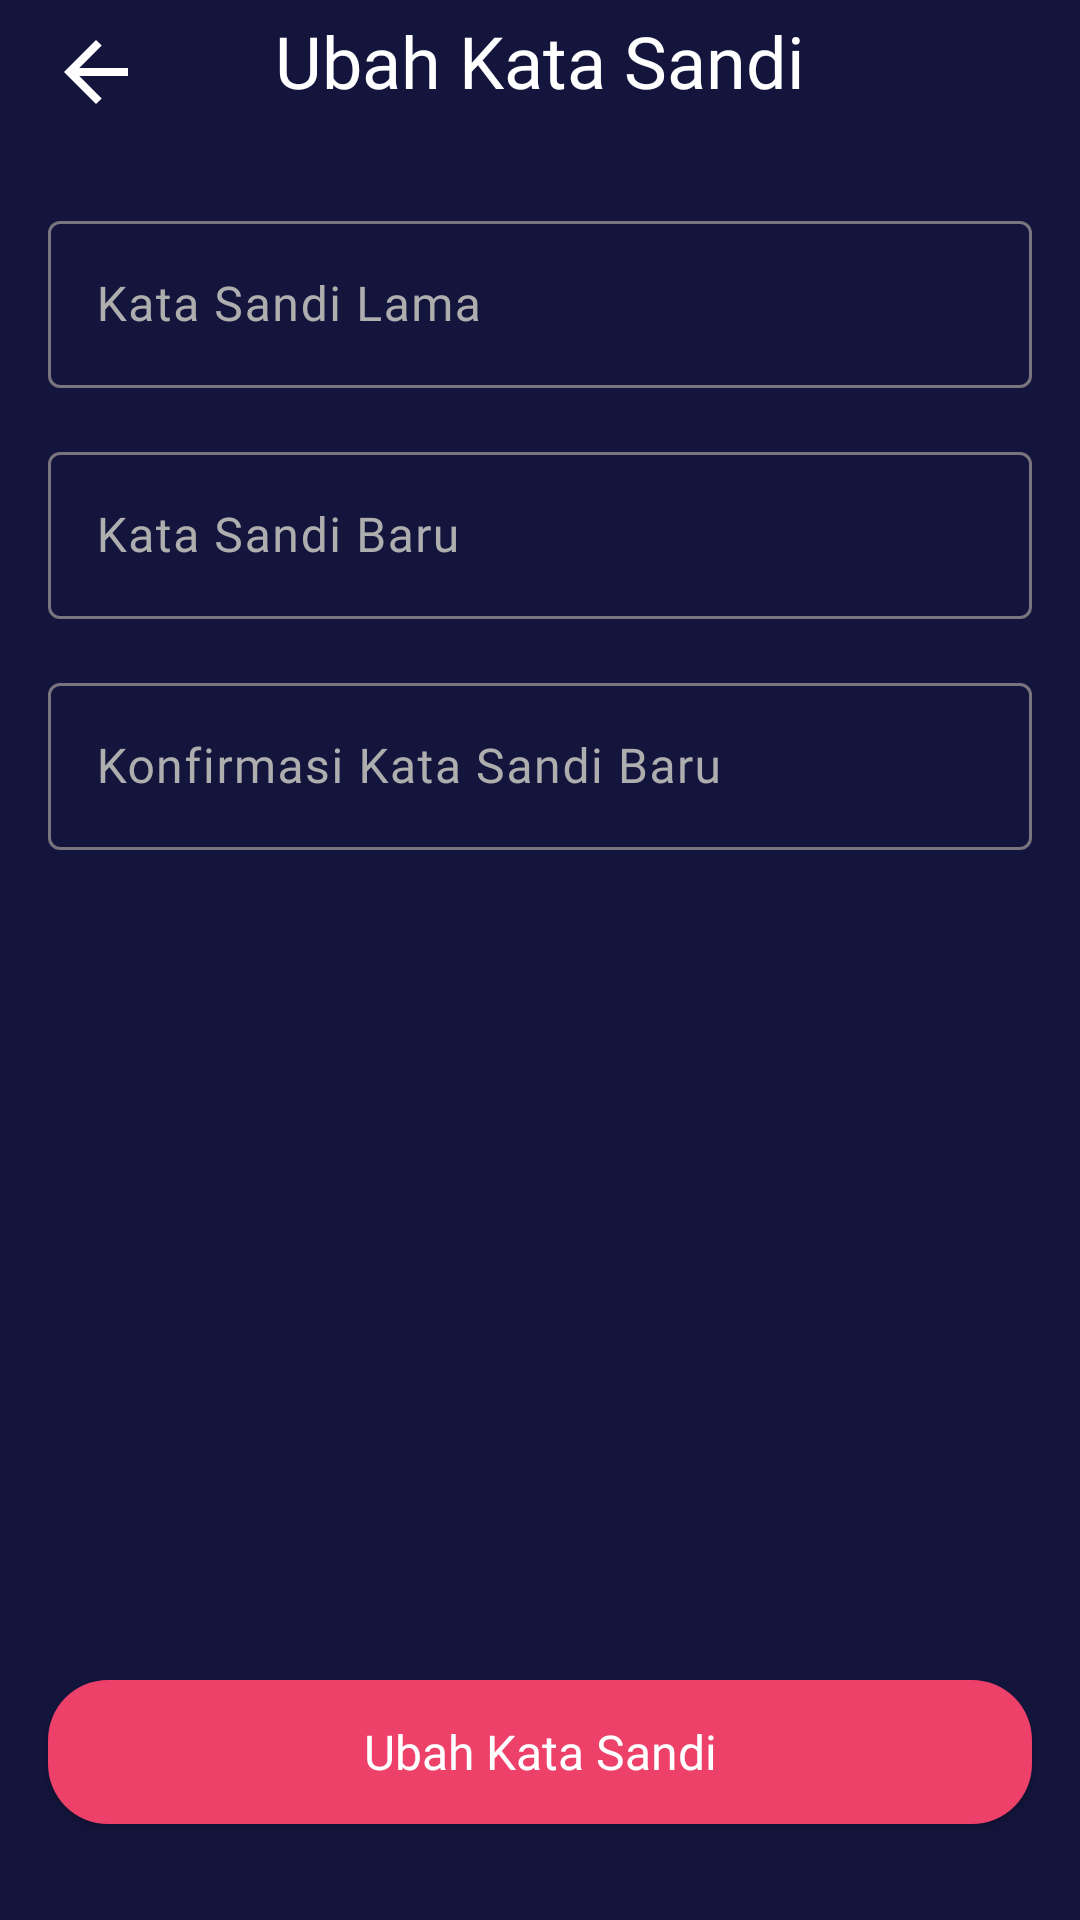

Screen size 1080px x 1920px. Icon name, then its box in pixels as (x1, y1, x2, y2):
arrow back: (64, 40, 128, 104)
